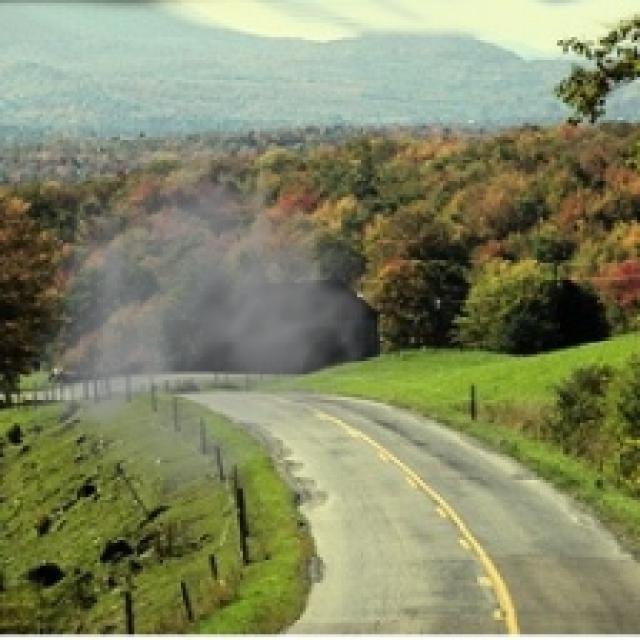Smoke: (31, 123, 412, 523)
